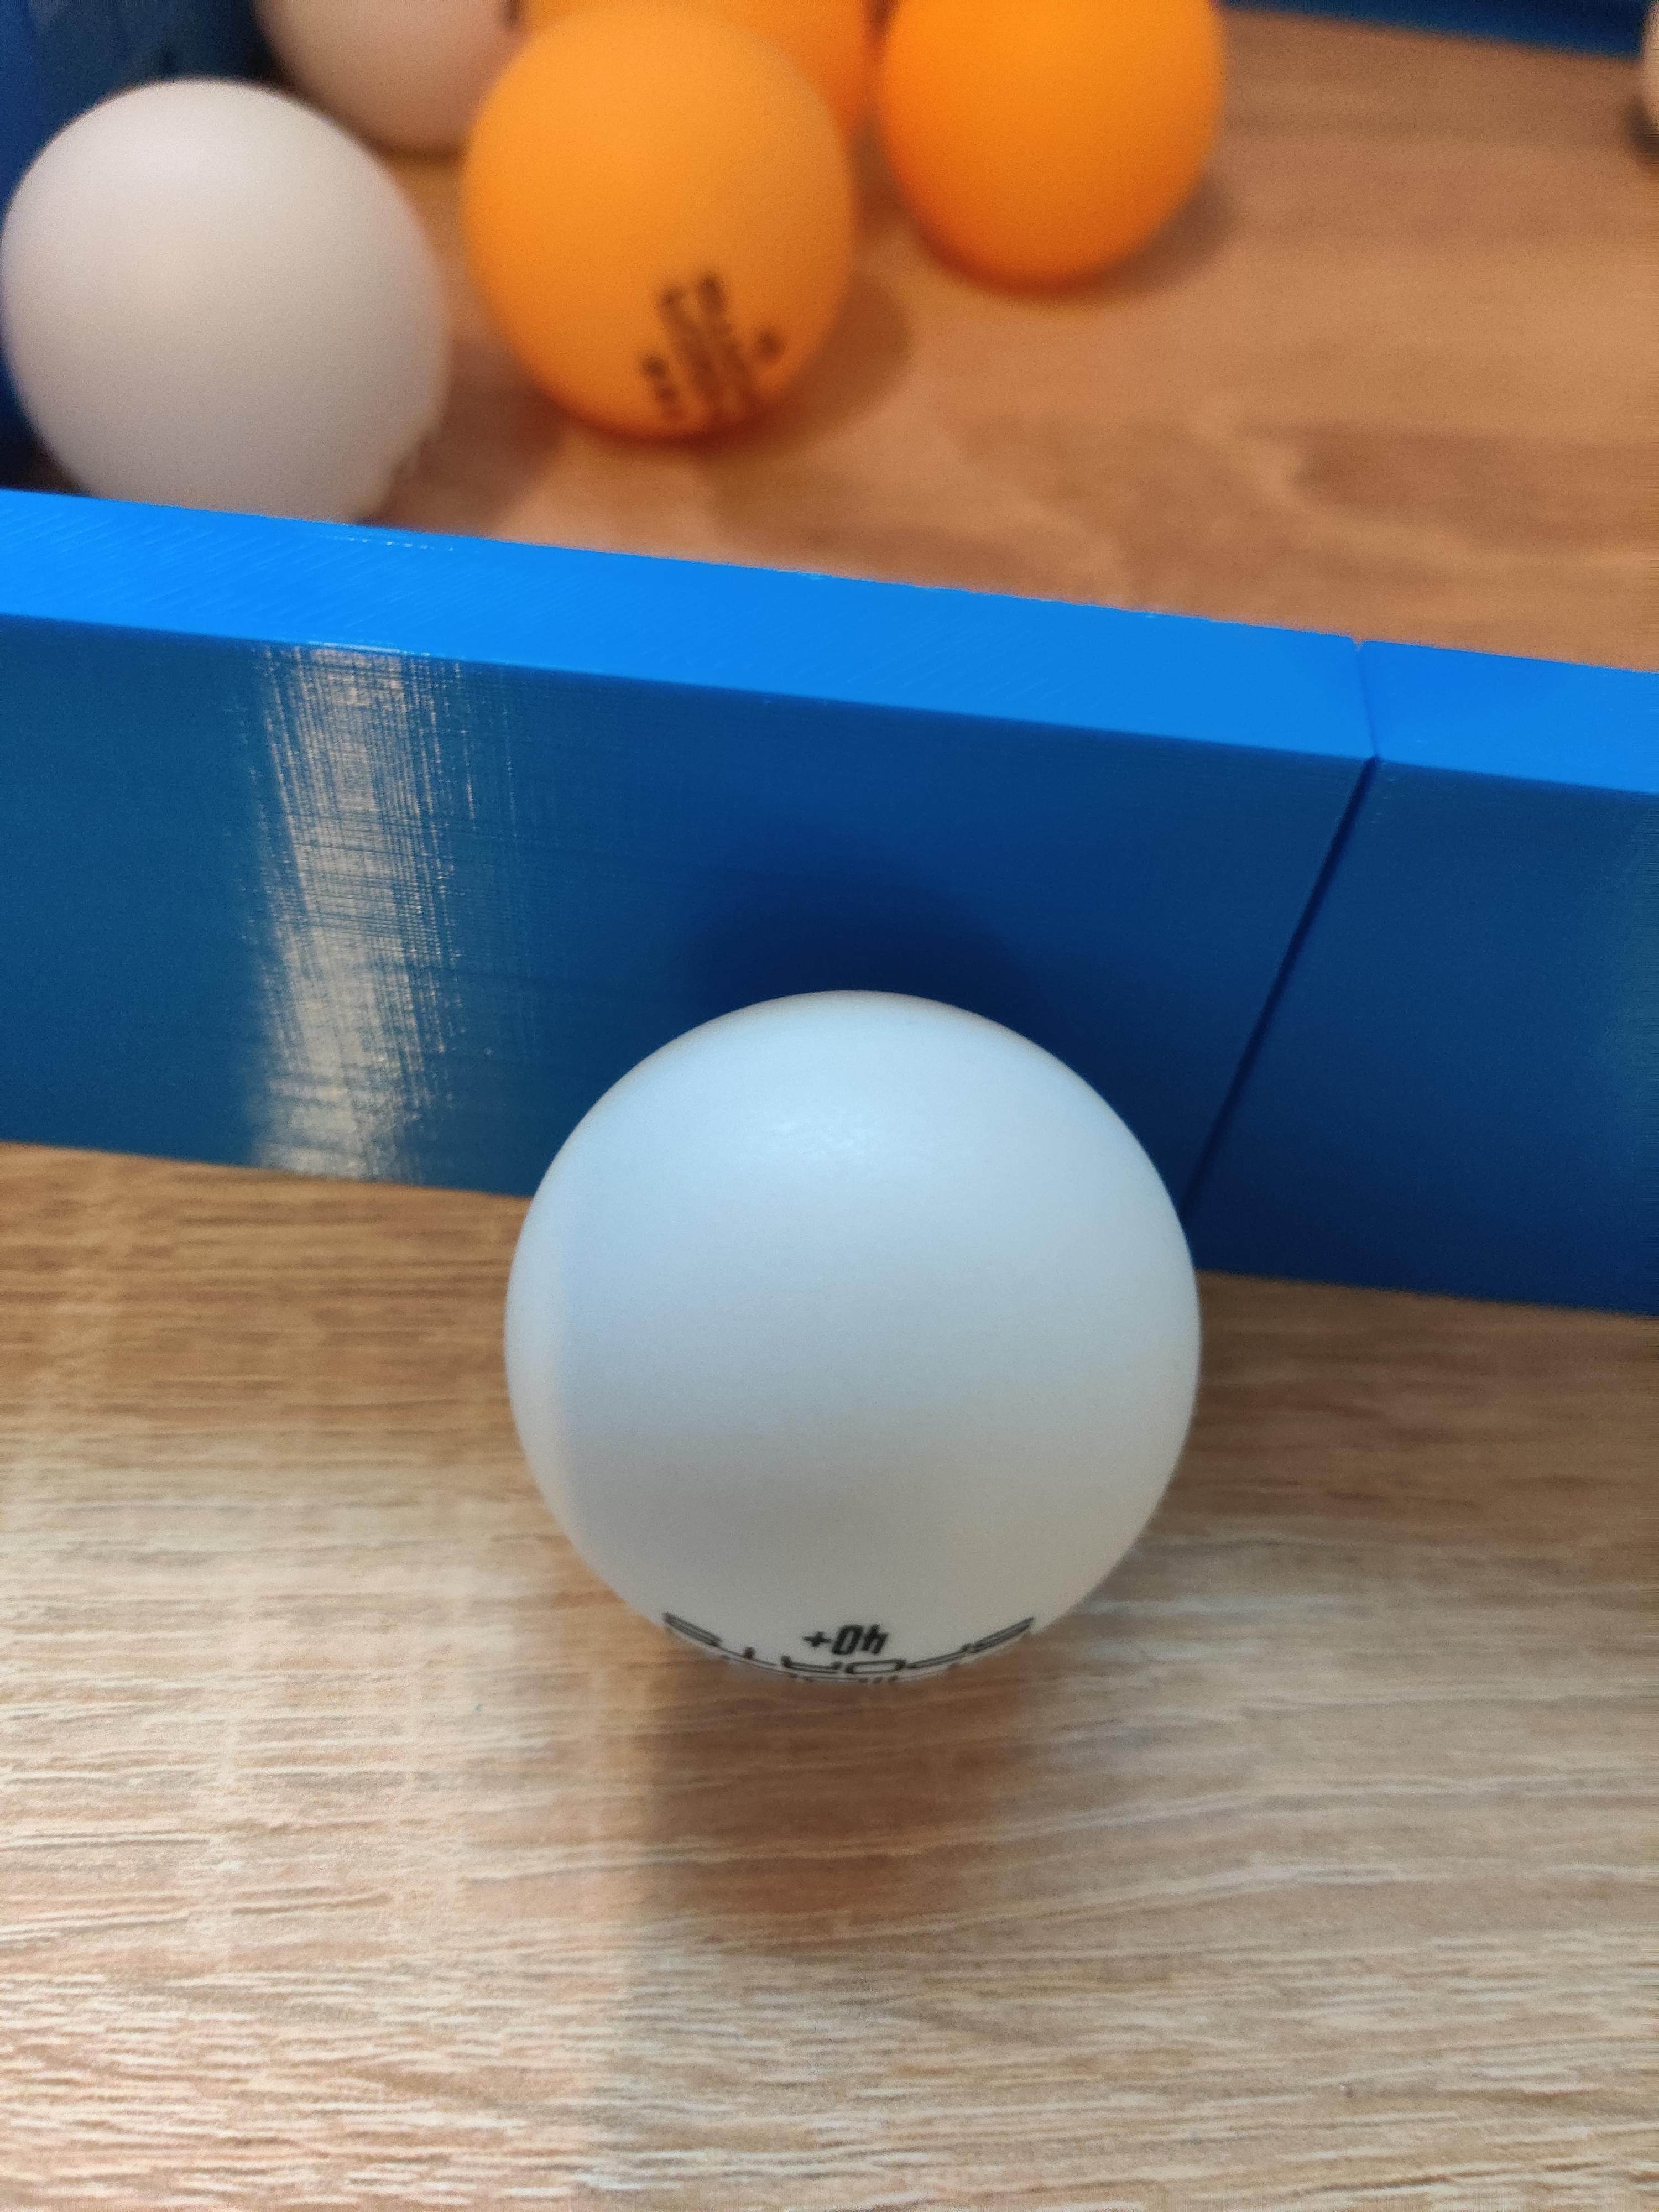orange: (460, 2, 856, 435), (878, 0, 1234, 287), (518, 0, 884, 167)
white: (498, 982, 1209, 1696), (0, 78, 448, 531), (258, 0, 551, 150), (1633, 0, 1659, 153)
